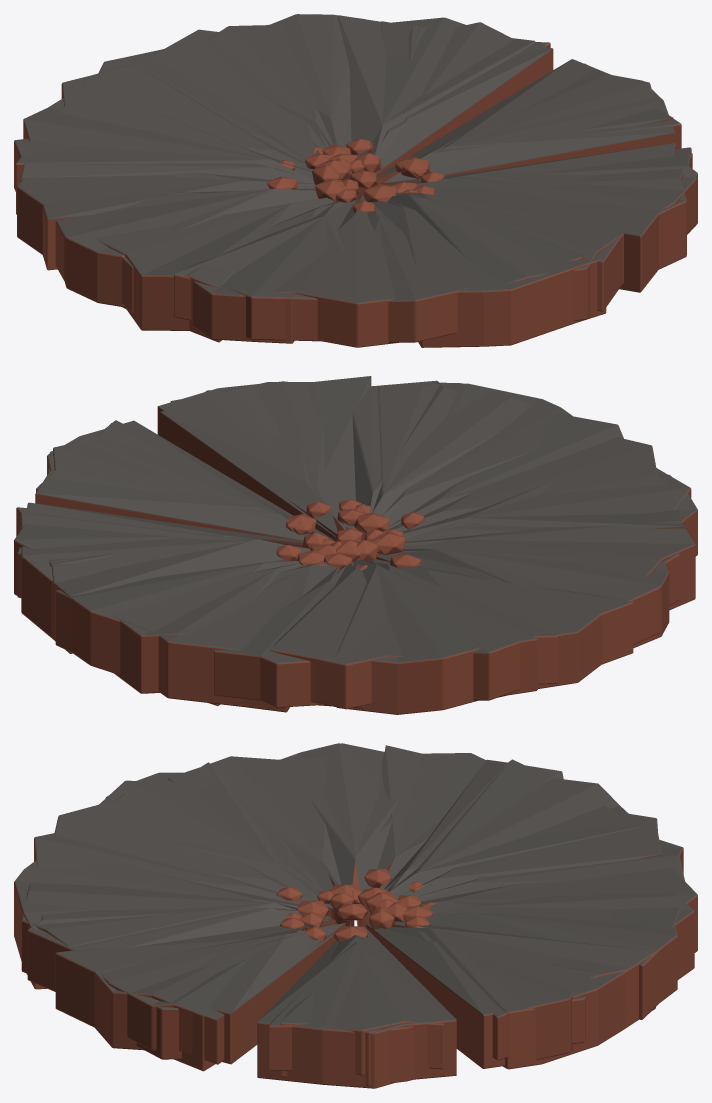
File: ore_node_iron.glb
The picture shows the model from 3 angles, top to bottom: view 1: azimuth 30°, elevation 25°; view 2: azimuth 150°, elevation 25°; view 3: azimuth 270°, elevation 25°; orthographic projection.
Parts seen in each view (by area): view 1: OreNode_A_Mesh, OreNode_B_Mesh, OreNode_C_Mesh; view 2: OreNode_A_Mesh, OreNode_B_Mesh, OreNode_C_Mesh; view 3: OreNode_A_Mesh, OreNode_B_Mesh, OreNode_C_Mesh.
Boxes of the visible parts, x1=… form: OreNode_A_Mesh: x1=16, y1=15, x2=692, y2=347; OreNode_B_Mesh: x1=17, y1=21, x2=696, y2=347; OreNode_C_Mesh: x1=14, y1=14, x2=697, y2=343; OreNode_A_Mesh: x1=20, y1=376, x2=691, y2=714; OreNode_B_Mesh: x1=16, y1=381, x2=695, y2=709; OreNode_C_Mesh: x1=14, y1=380, x2=697, y2=708; OreNode_A_Mesh: x1=14, y1=743, x2=697, y2=1088; OreNode_B_Mesh: x1=21, y1=745, x2=694, y2=1075; OreNode_C_Mesh: x1=27, y1=743, x2=684, y2=1085.
Bounding box in the file's own units: 5.99 × 0.8814 × 5.99.
